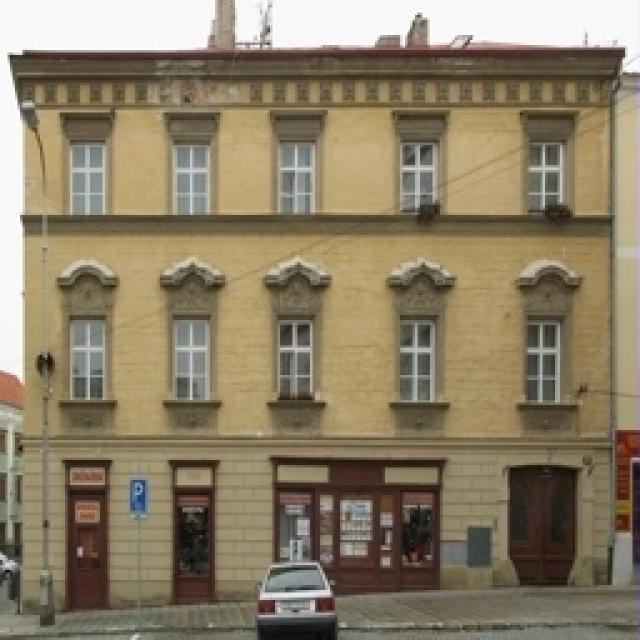building: (12, 30, 620, 618)
